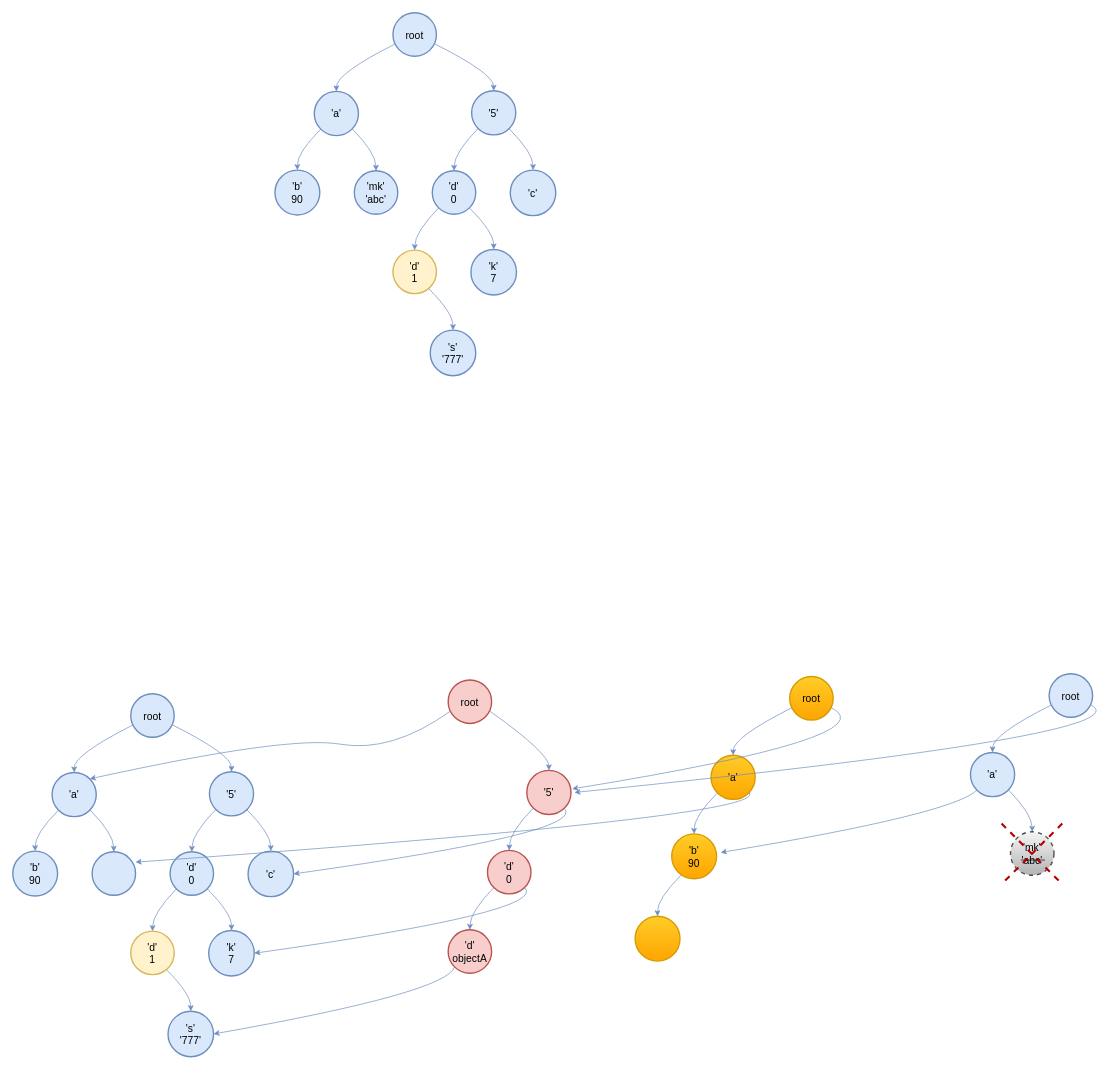
The diagram is 1108 pixels wide and 1069 high, and some of its shapes have lost their labels. Here are the shapes that lost their labels. From the top down, the centre of each, then its label:
At (x=113, y=873): "'m' 'abc'".
At (x=657, y=938): "'k' 12.3".
